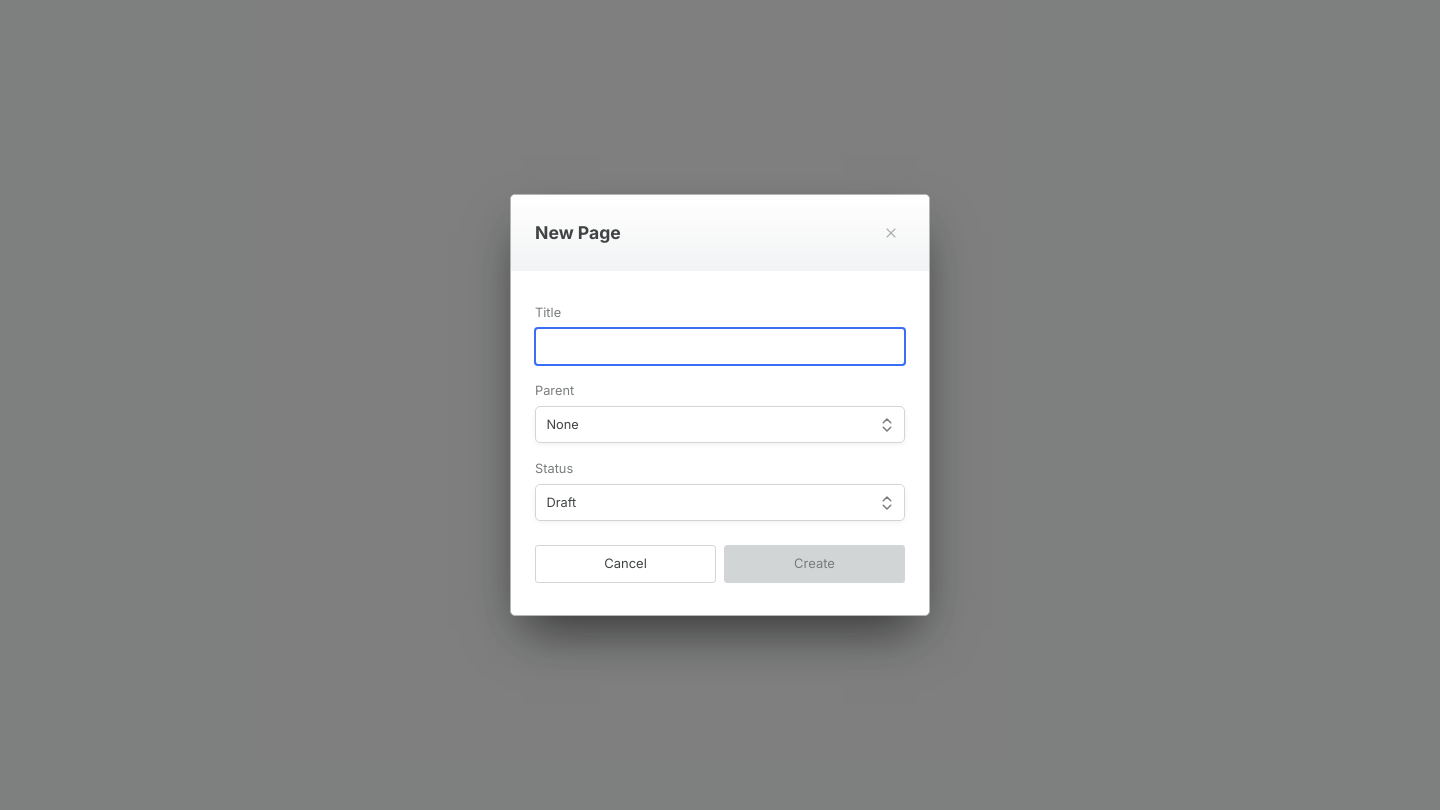
Test case: NewPageModal › cannot be submitted until a title gives it a slug
The width and height of the screenshot is (1440, 810).
Expected: the button "Create" is disabled, [724, 545, 905, 583]
Punctuation alone slugifies to nothing, so it still leaves no path.
Type "!!!" into the field labelled "Title".
click(720, 347); type("!!!")  # box [535, 328, 905, 365]
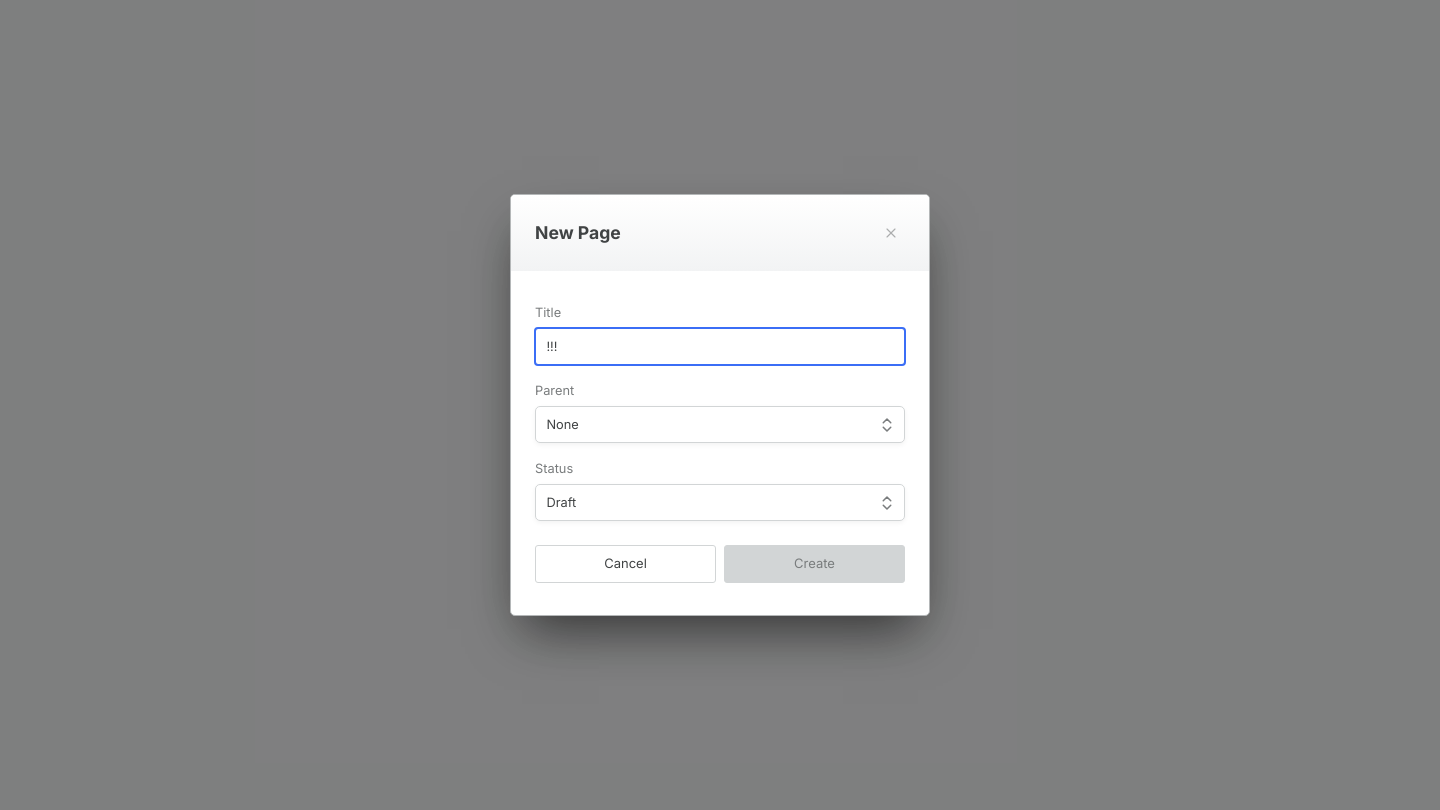
Expected: the button "Create" is disabled, [724, 545, 905, 583]
Replace the text in the field labelled "Title" with "Real Title" at (720, 347), box [535, 328, 905, 365]
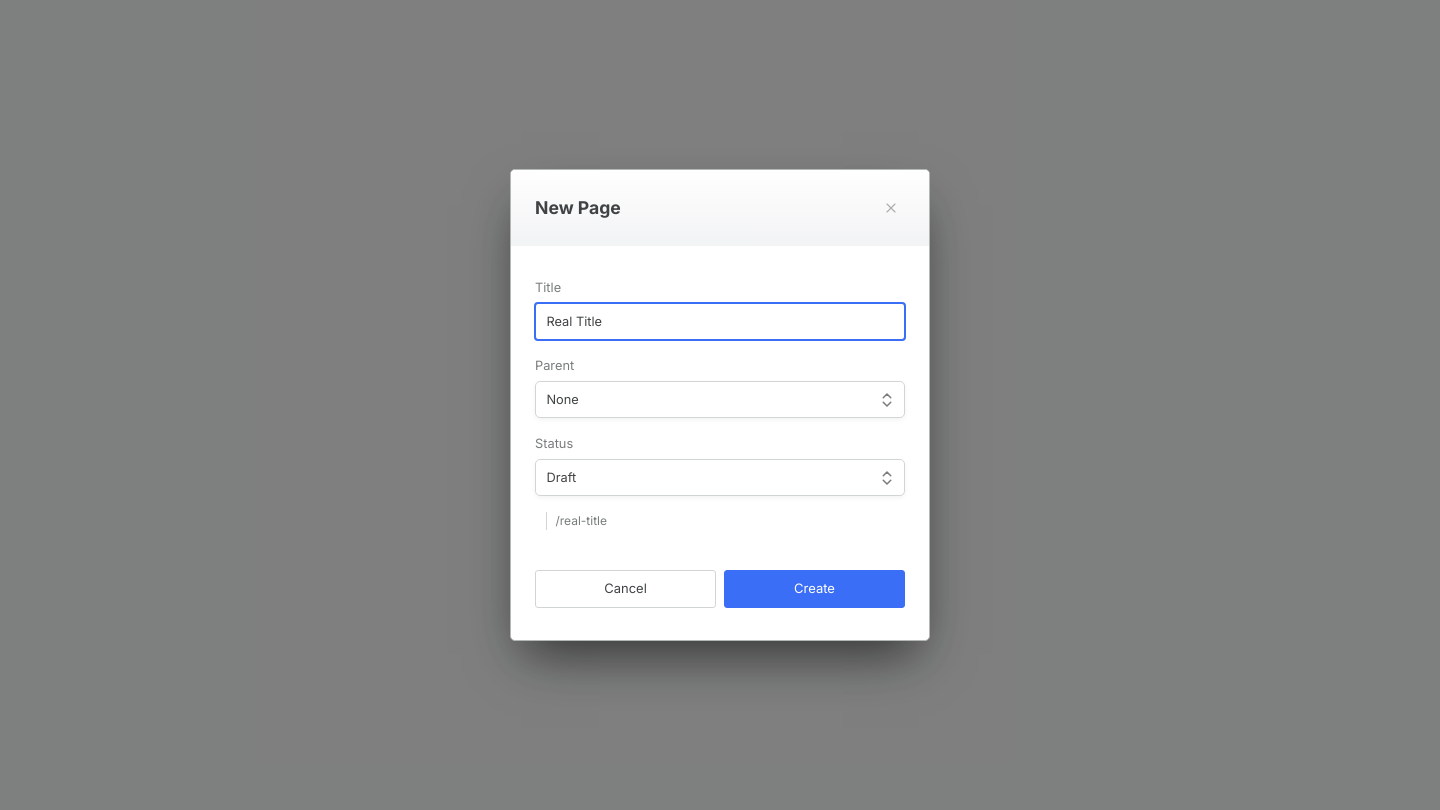
Now the button "Create" is enabled, box [724, 570, 905, 608]
